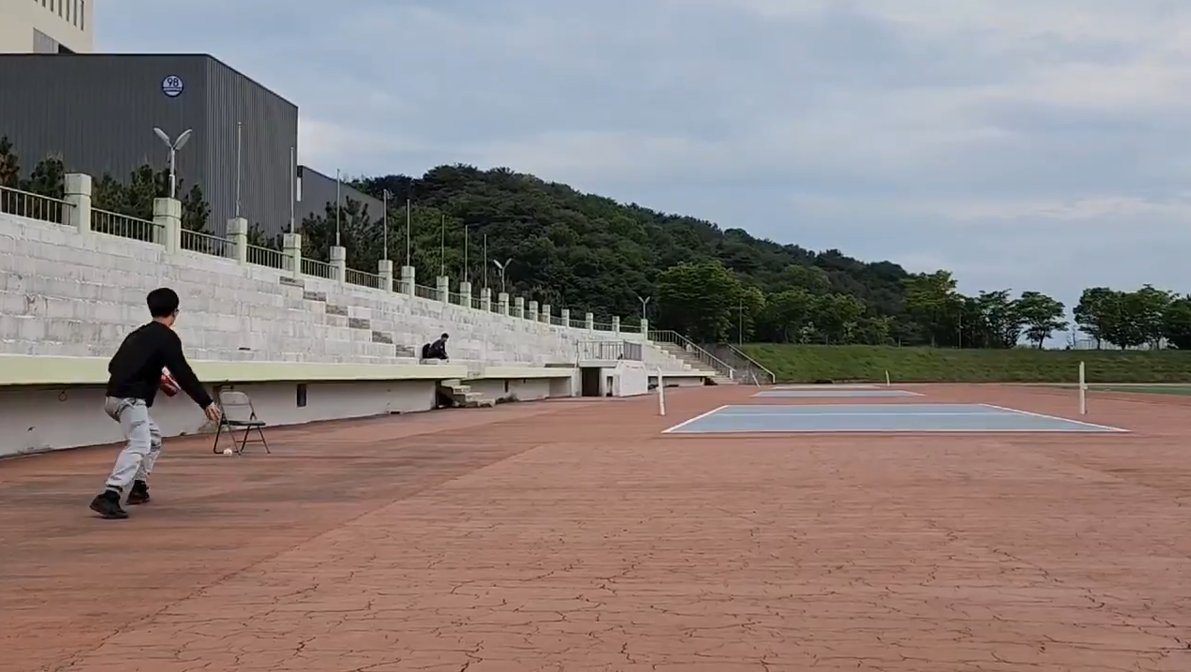ball: (220, 447, 235, 458)
